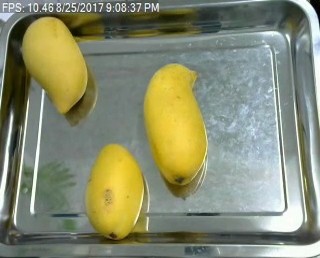Mango: (136, 60, 214, 190), (17, 12, 90, 117), (83, 142, 149, 242)
